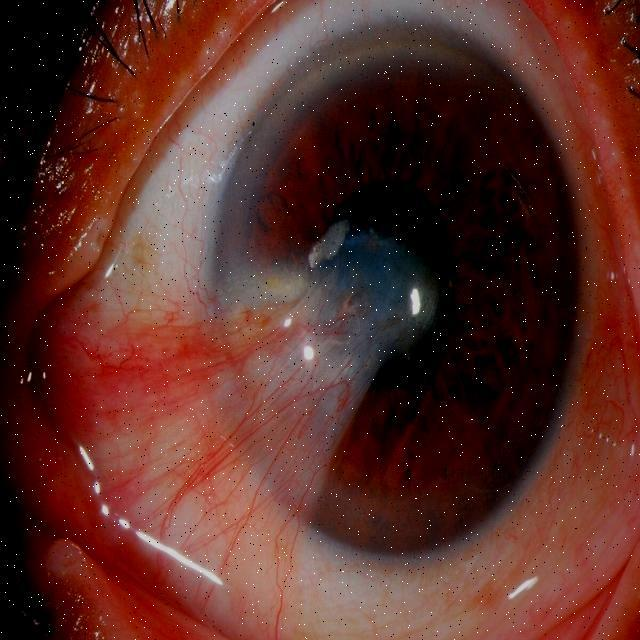Pterygium: (44, 240, 375, 631)
